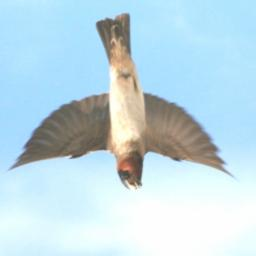Swallow: (6, 12, 241, 192)
